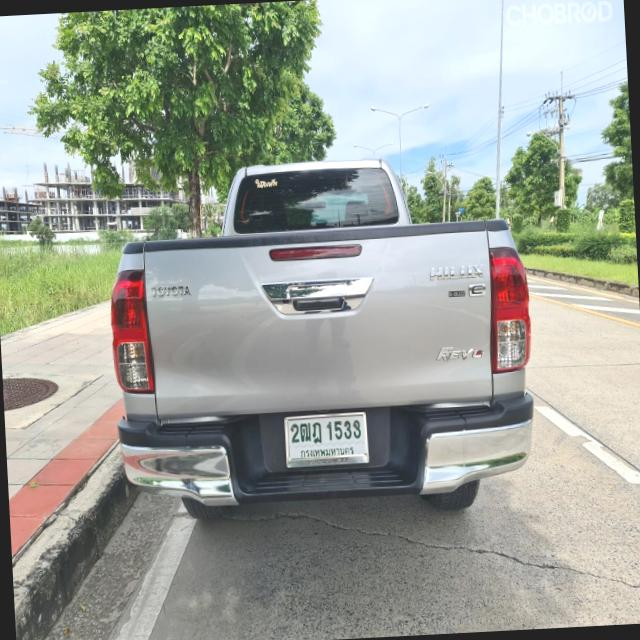license_plate: (283, 411, 372, 470)
